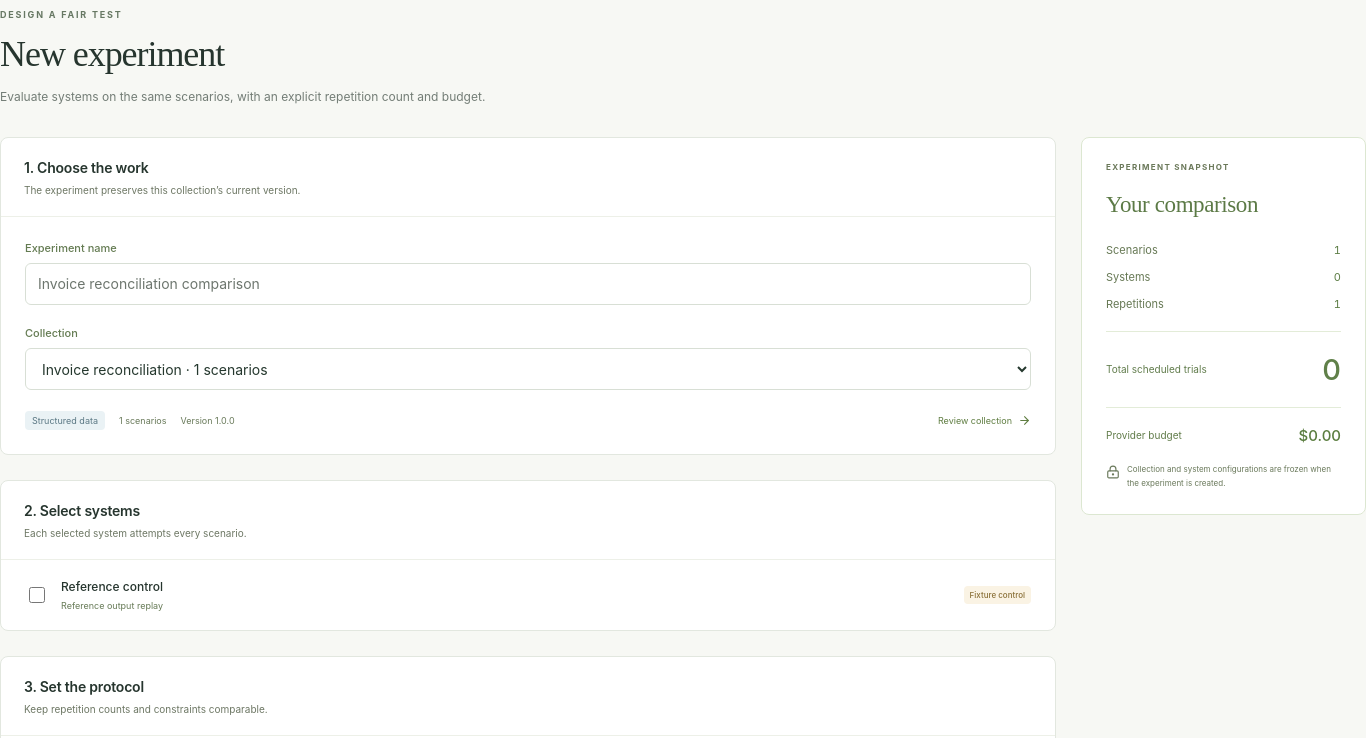
experiment protocol › requires a system and distinguishes fixture controls from imported submissions
Click the checkbox labelled "Reference control Reference output replay Fixture control". click: (37, 595)
box: [29,587,45,603]
(page scrolled)
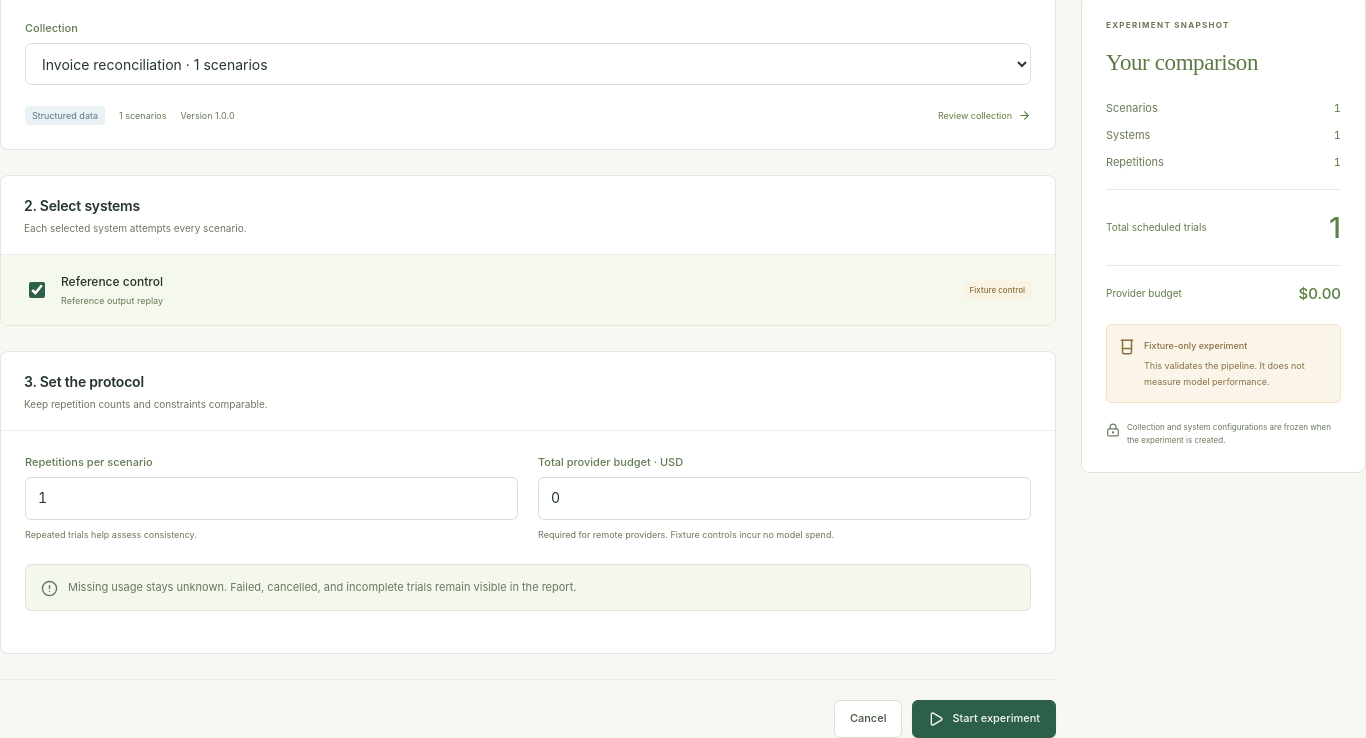
Expected: the text "Fixture-only experiment" is shown, [1144,340,1247,351]
Expected: the text "This validates the pipeline. It does not measure model performance." is shown, [1144,360,1305,387]
Expected: the button "Start experiment" is enabled, [912,700,1056,737]
